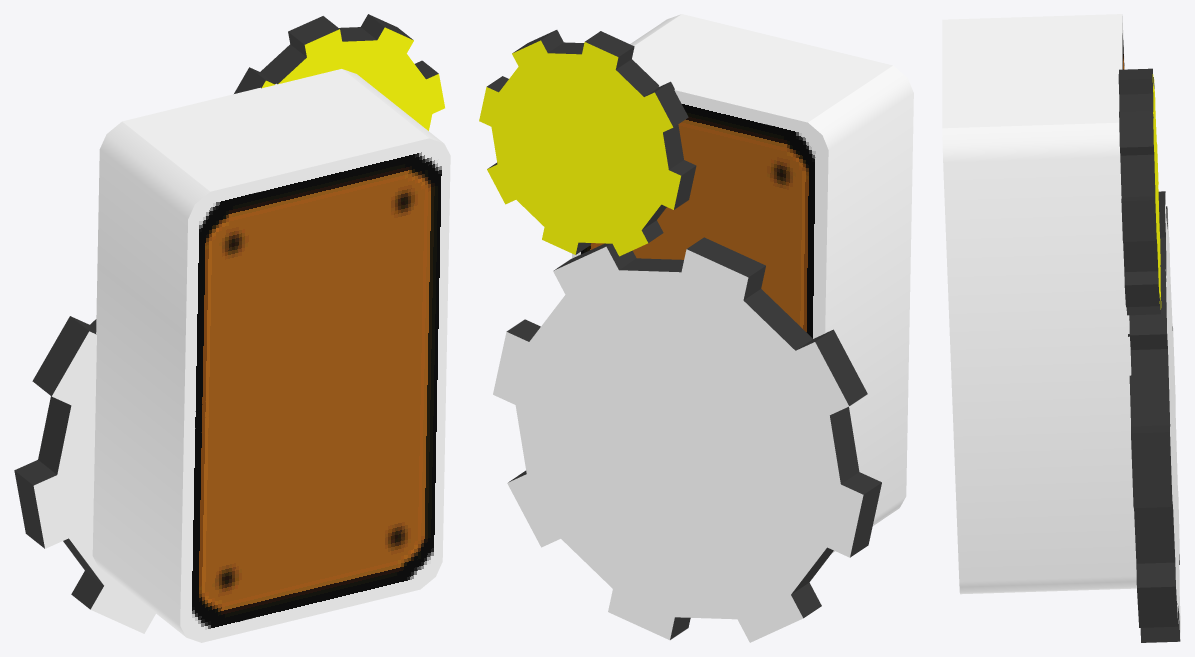
File: ps2_save-icons_rpgmaker3.glb
3 views of the same model, side by side, from view 1: azimuth 30°, elevation 25°; view 2: azimuth 150°, elevation 25°; view 3: azimuth 270°, elevation 25° (orthographic). The views are drawn at different scales.
Parts seen in each view (by area): view 1: rpgsp.ico; view 2: rpgsp.ico; view 3: rpgsp.ico.
Boxes of the visible parts, box(x1,y1,x2,y2) form: rpgsp.ico: box(14, 14, 450, 642); rpgsp.ico: box(479, 14, 913, 642); rpgsp.ico: box(942, 14, 1180, 642).
Size of the model in its own units: 2.97 by 4.1 by 1.48.
1 material, 1 textured.
